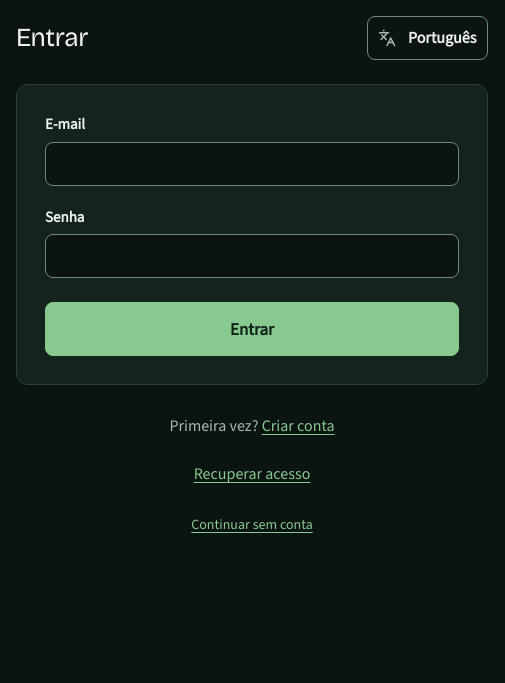
Test: offers resend only after the provider reports an unconfirmed email
In the field labelled "E-mail": (252, 164) [45, 142, 459, 186], type "ana@example.com"
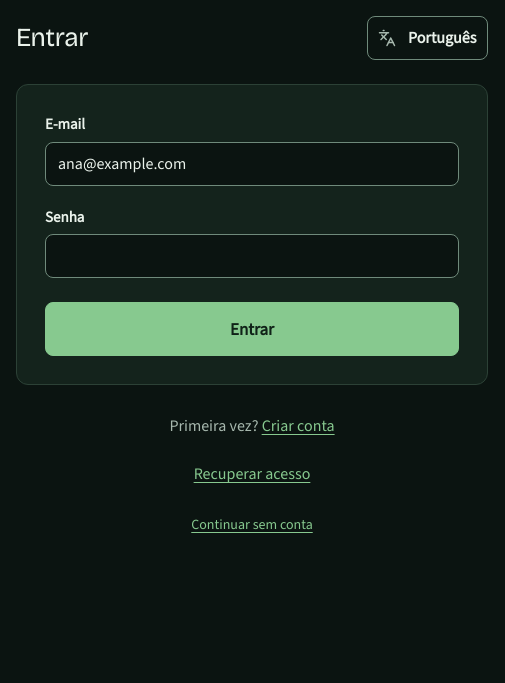
In the password field labelled "Senha": (252, 256) [45, 234, 459, 278], type "password-123"
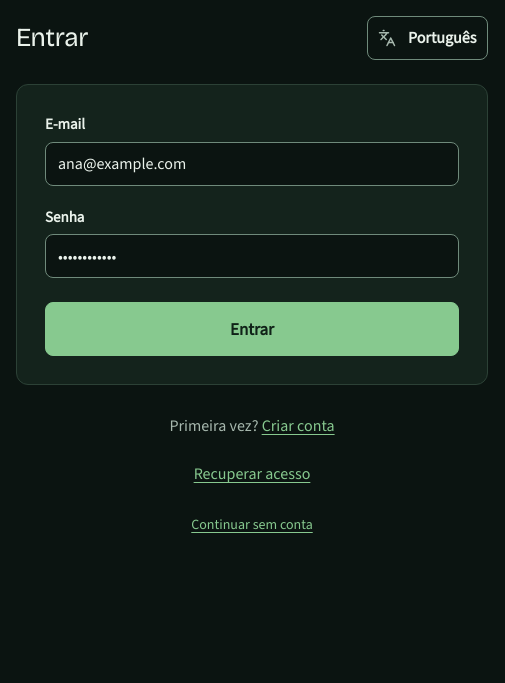
Click the button "Entrar": (252, 329) [45, 302, 459, 356]
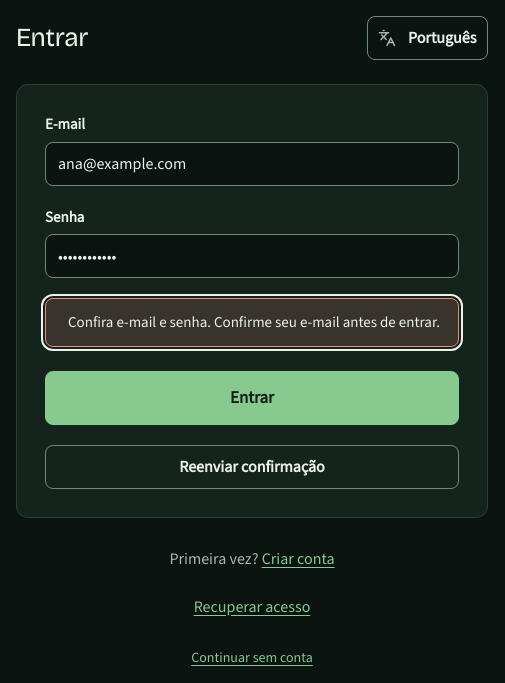
Check: the button "Reenviar confirmação" is enabled, box [45, 444, 459, 488]
Replace the text in the field labelled "E-mail" with "other@example.com": (252, 164) [45, 142, 459, 186]
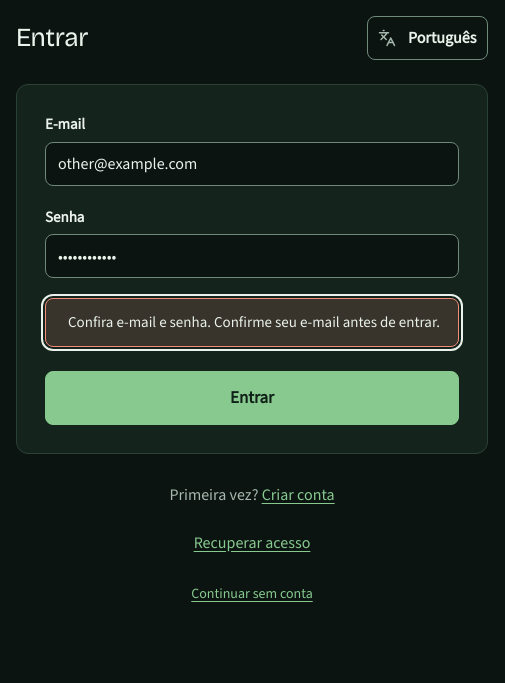
Check: the button "Reenviar confirmação" is gone
